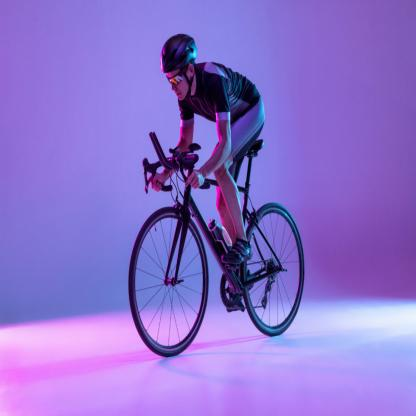Bike: (130, 127, 306, 367)
